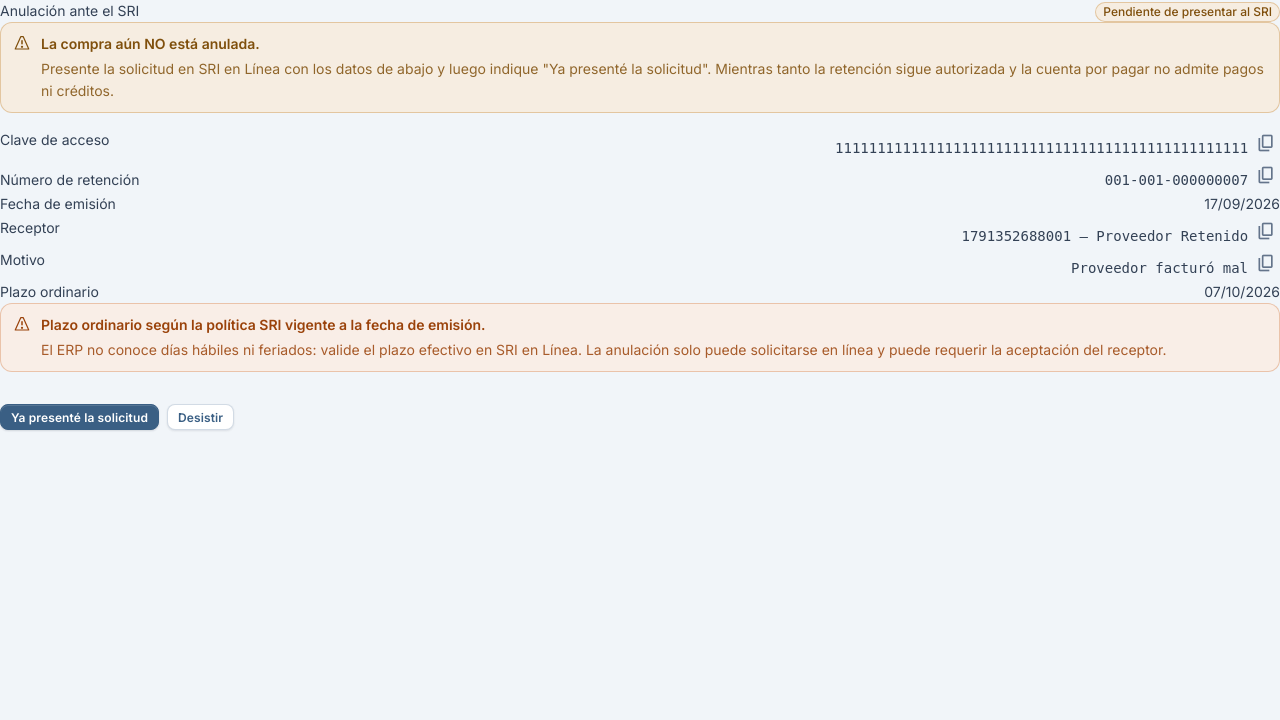
RetentionAnnulmentPanel (ZH-RETENTION-SRI-ANNULMENT-01/01B) › 'Ya presenté la solicitud' abre el registro de la presentación con verificación automática
Step 1. Click the button "Ya presenté la solicitud" → (80, 417), box [0, 404, 159, 430]
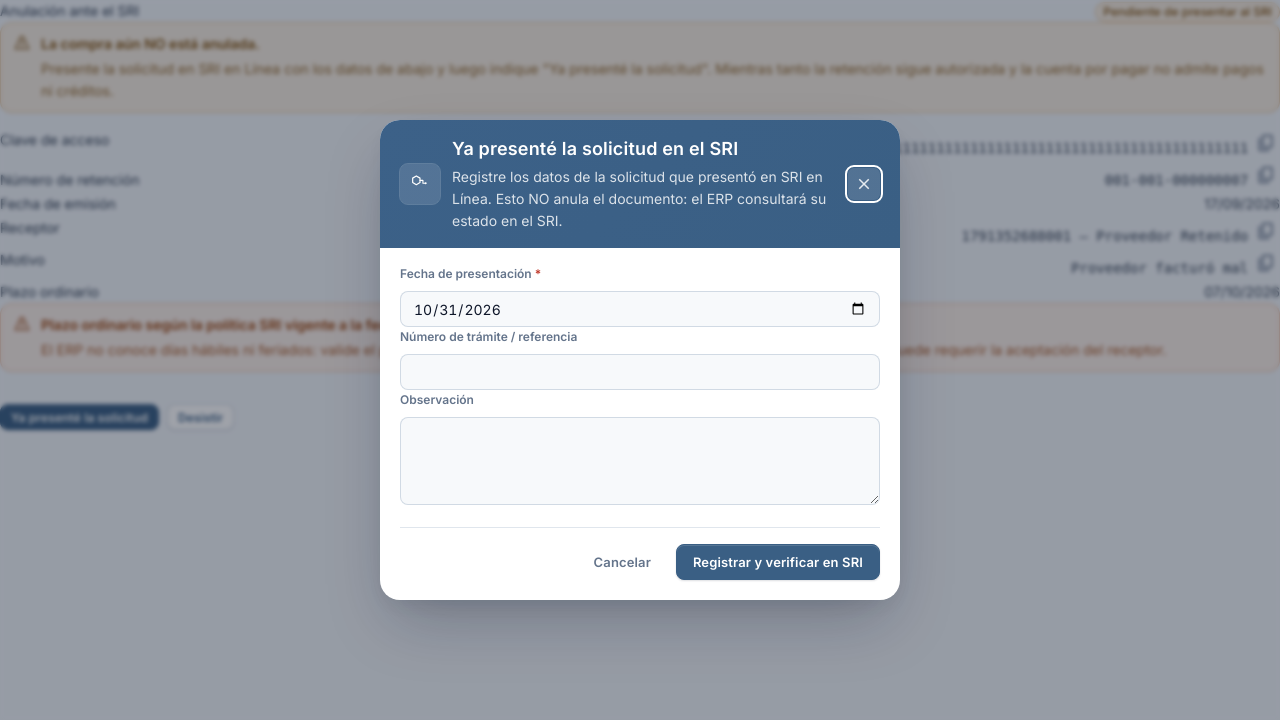
Expected: the heading "Ya presenté la solicitud en el SRI" is shown, [452, 138, 738, 159]
Expected: the button "Registrar y verificar en SRI" is shown, [676, 544, 880, 580]
